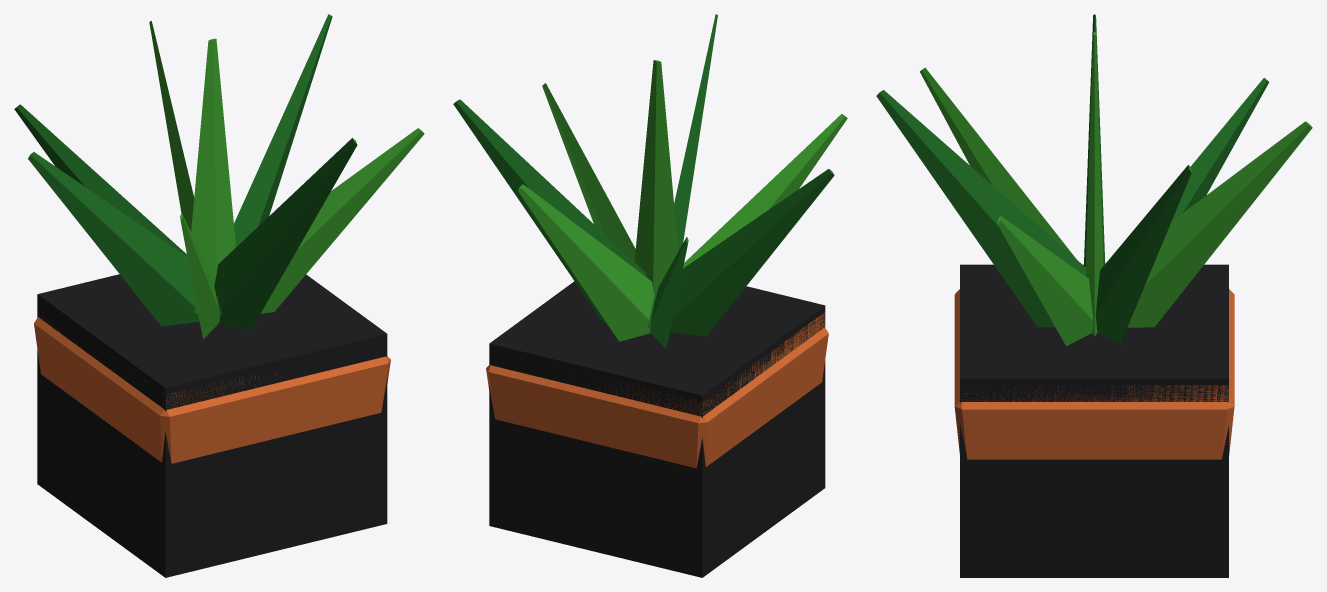
File: env_planter.fbx
3 views of the same model, side by side, from view 1: azimuth 30°, elevation 25°; view 2: azimuth 150°, elevation 25°; view 3: azimuth 270°, elevation 25° (orthographic). The views are drawn at different scales.
Visible parts, largest first — view 1: COL_env_planter, env_planter_geo; view 2: COL_env_planter, env_planter_geo; view 3: COL_env_planter, env_planter_geo.
Part boxes in pixels (x1=…): COL_env_planter: x1=37, y1=274, x2=387, y2=577; env_planter_geo: x1=14, y1=14, x2=424, y2=463; COL_env_planter: x1=489, y1=281, x2=825, y2=577; env_planter_geo: x1=453, y1=14, x2=847, y2=468; COL_env_planter: x1=960, y1=264, x2=1228, y2=577; env_planter_geo: x1=876, y1=14, x2=1312, y2=459.
Bounding box in the file's own units: 1.74 × 2.2 × 1.79.
